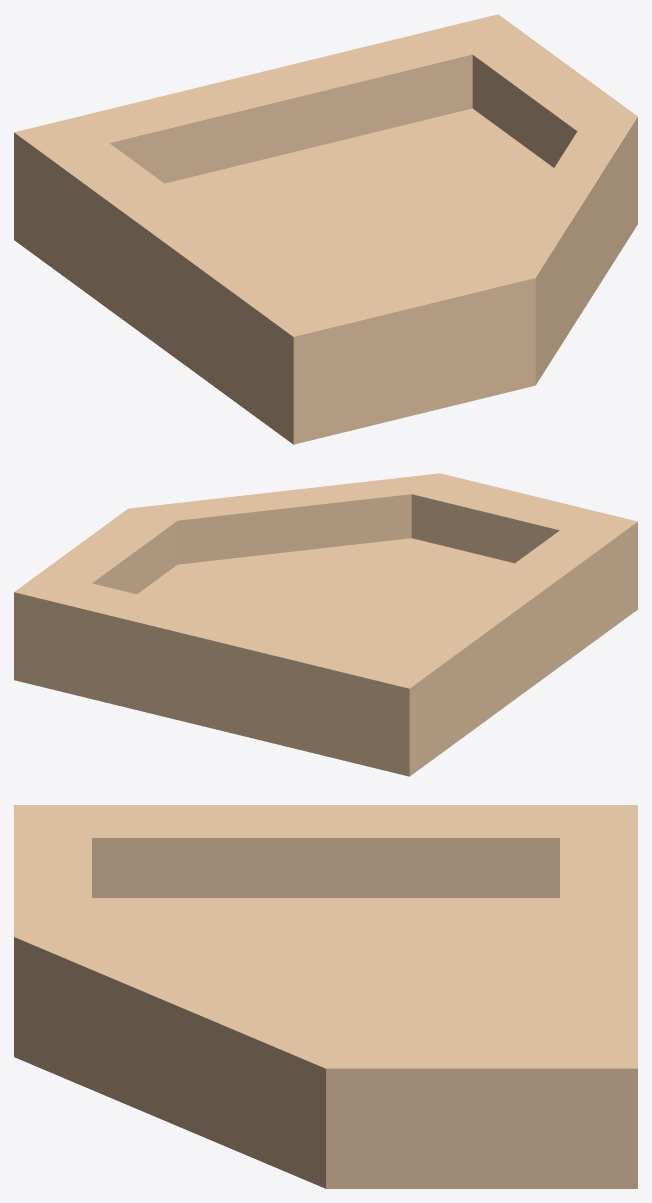
The model's file is roof-flat-border-center-corner.obj.
3 views of the same model, one above another, from view 1: azimuth 30°, elevation 25°; view 2: azimuth 150°, elevation 25°; view 3: azimuth 270°, elevation 25° (orthographic). The views are drawn at different scales.
Size of the model in its own units: 1 by 0.2125 by 1.
